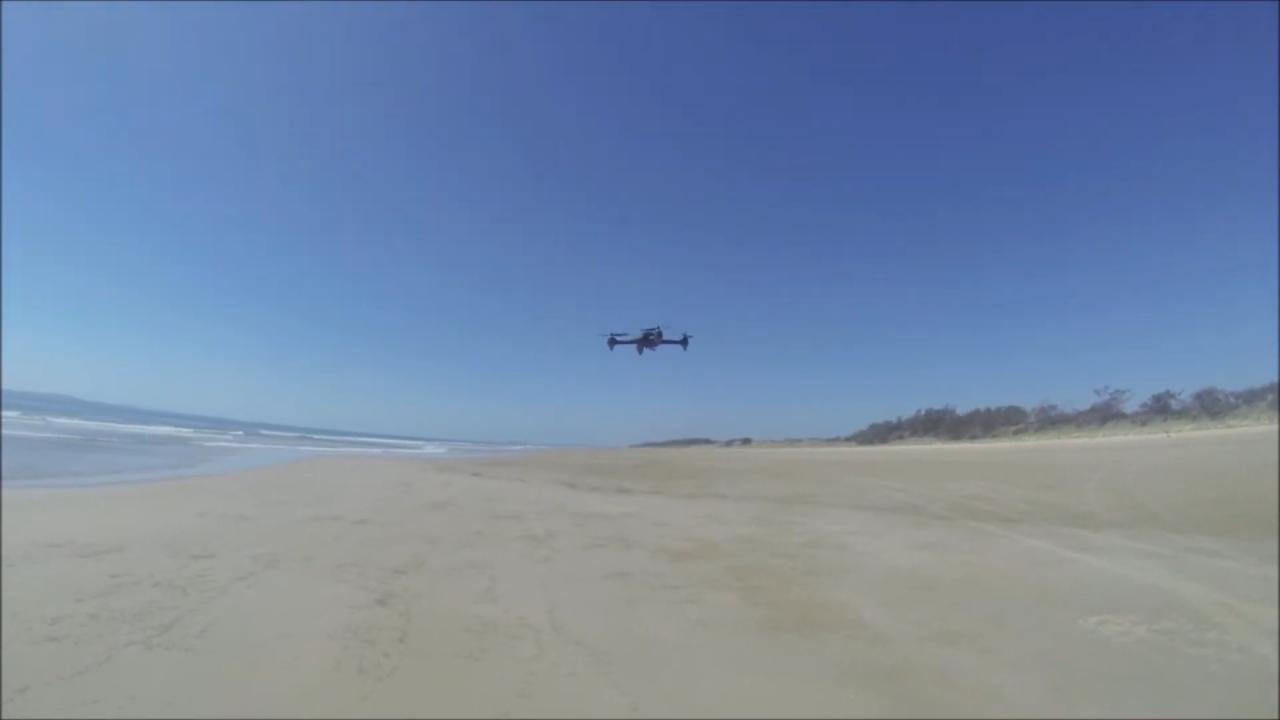Drone: (589, 310, 707, 371)
